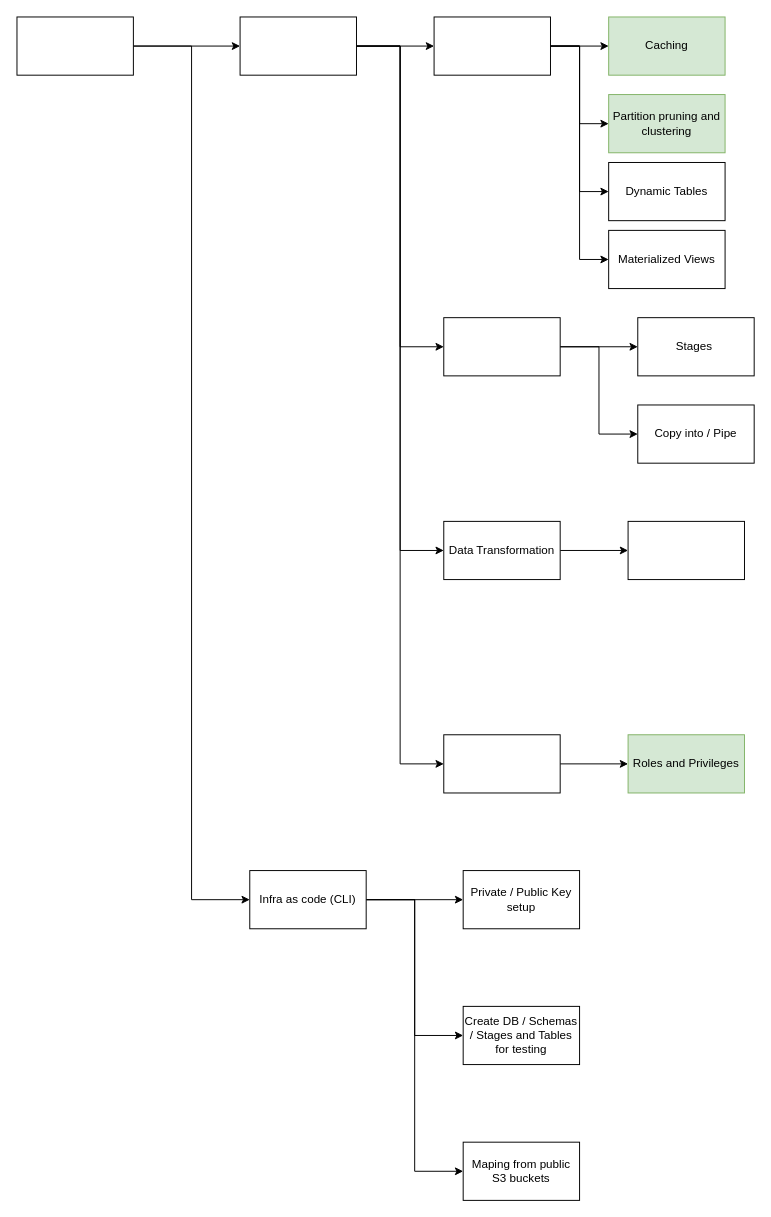
This 771x1217 diagram has some shape labels left out. Here are the shapes that lost their labels. From the top down, the centre of each, then its label:
the point at 74,45: Init
the point at 297,45: Notebook for playground
the point at 491,45: Performance
the point at 501,346: Data load / unload
the point at 685,550: Failsafe - TimeTravel / Zero Copy cloning
the point at 501,763: Access and Security
